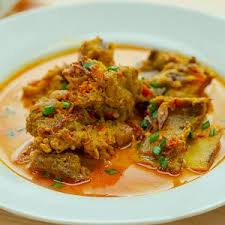soto: (1, 10, 225, 221)
